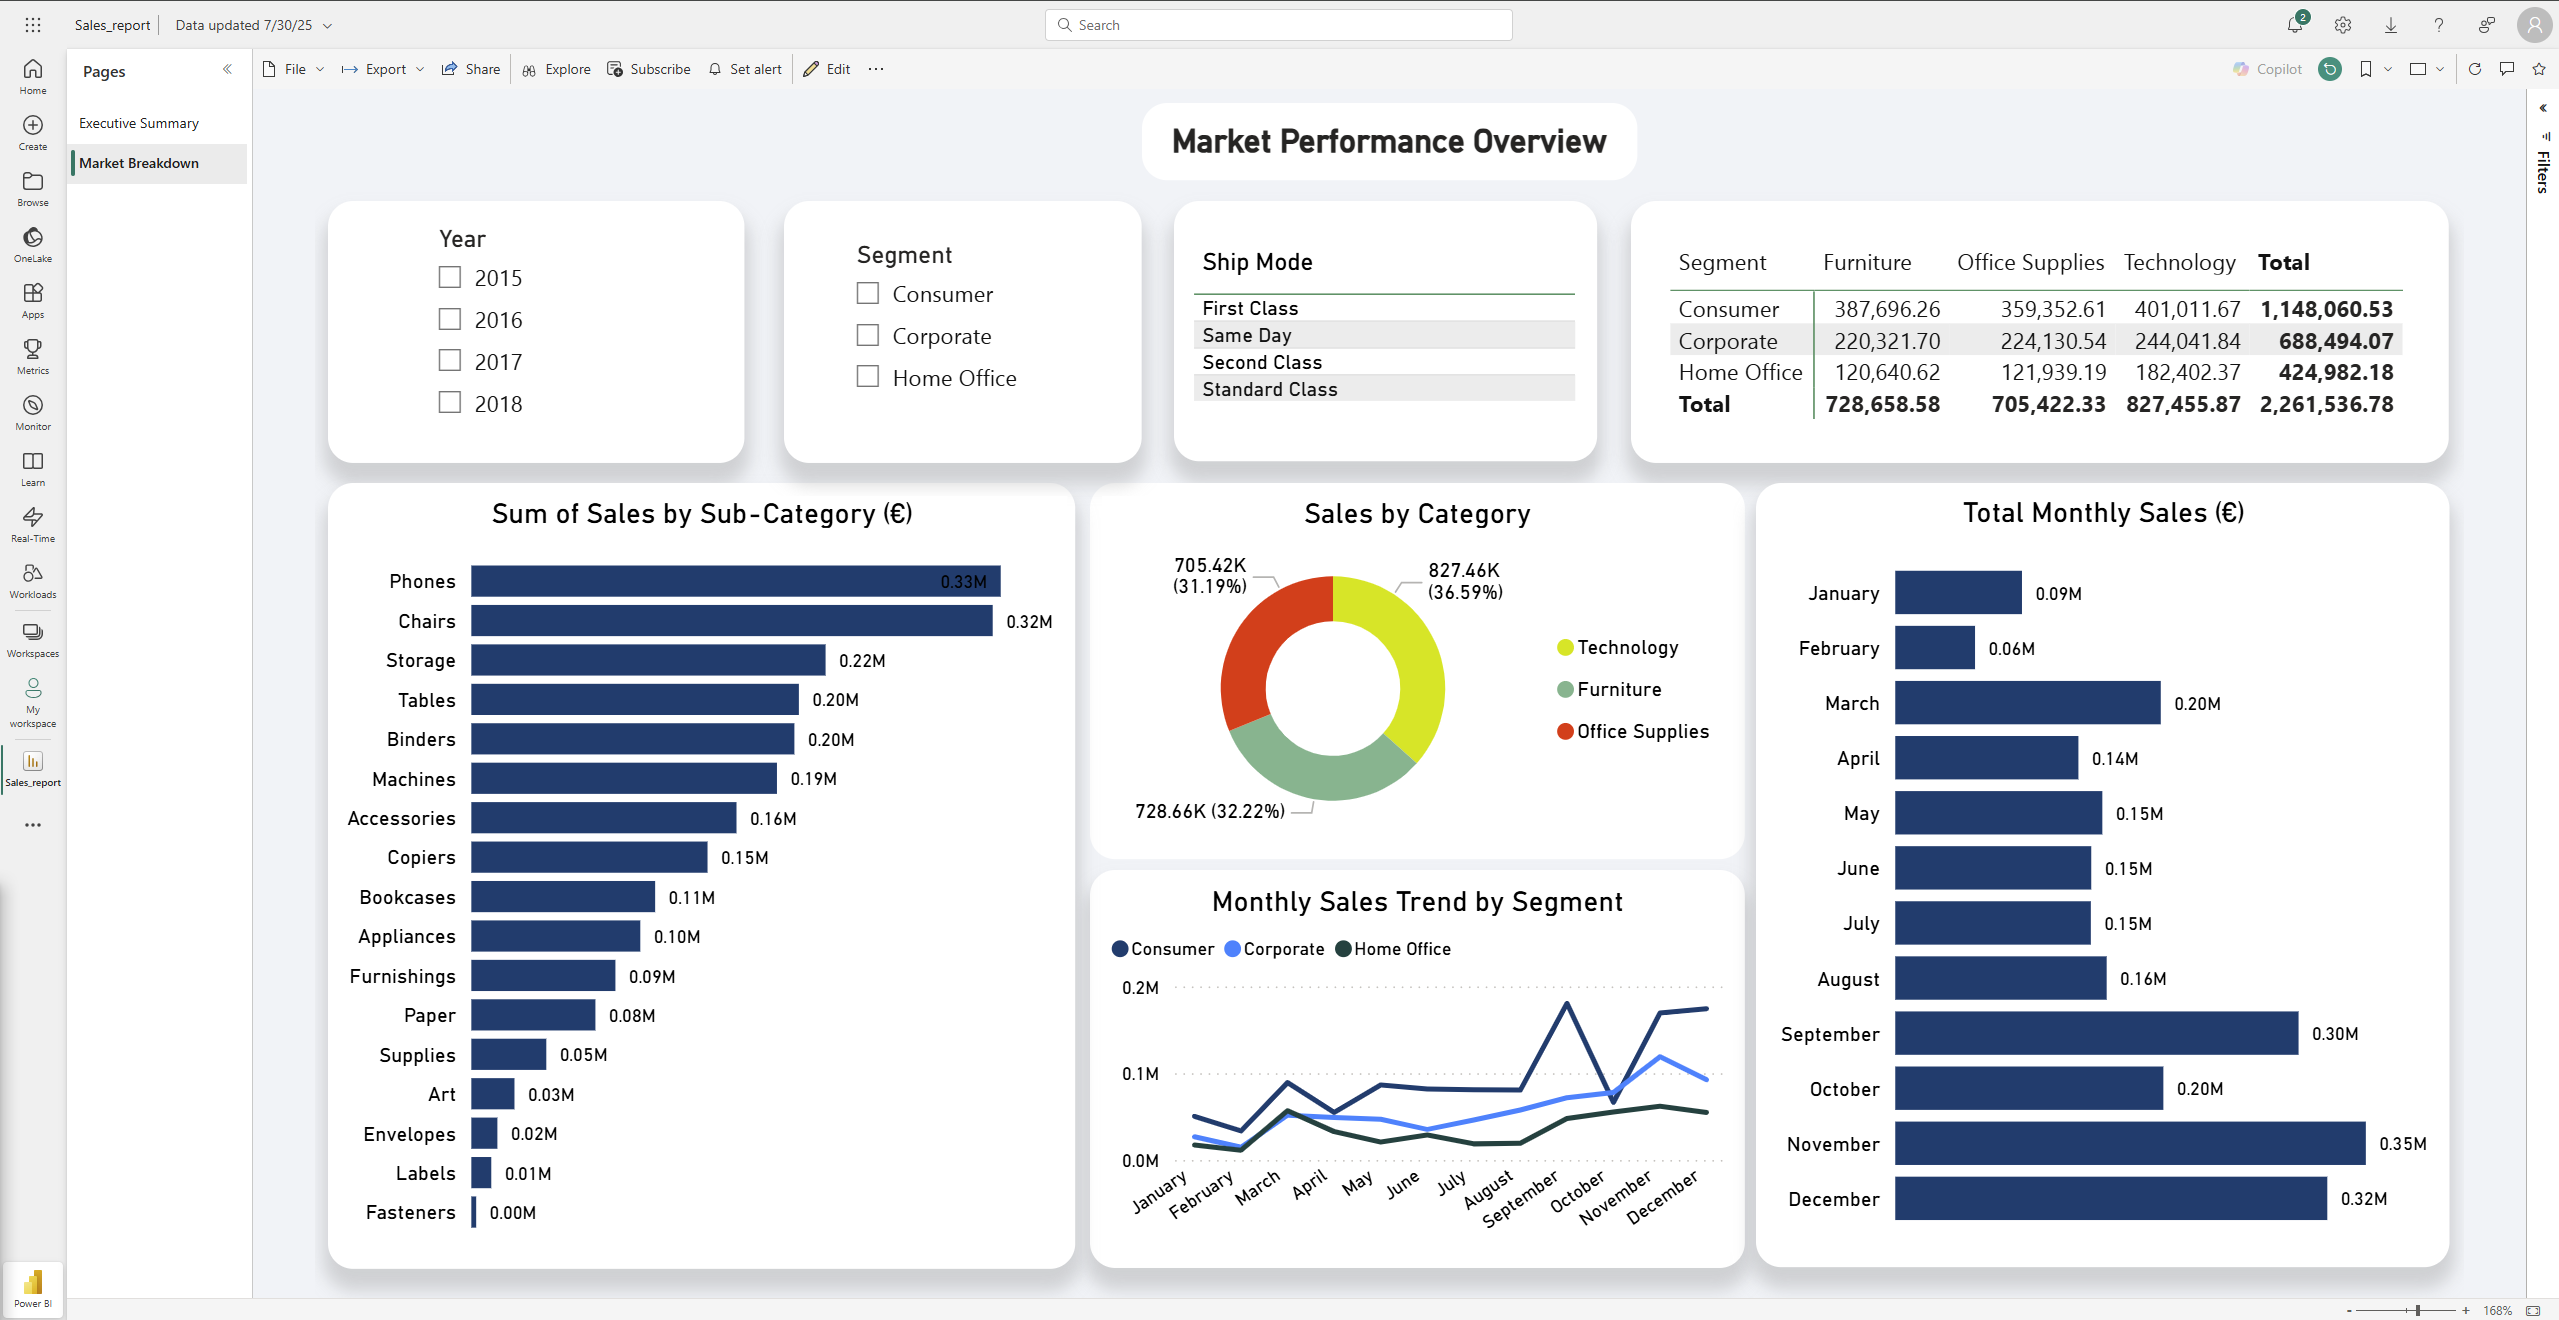

The page's visual inventory and layout, read from the dashboard file:
{"tool":"powerbi","page":{"name":"Market Breakdown","canvas":[1280,720],"ordinal":1},"visuals":[{"type":"shape","box":[7.7,66.5,248.4,156.1],"z":0},{"type":"shape","box":[461.3,465.2,390.3,236.8],"z":1000},{"type":"shape","box":[511.6,66.5,251.6,154.8],"z":2000},{"type":"shape","box":[783.9,66.5,487.1,156.1],"z":3000},{"type":"shape","box":[461.3,234.8,390.3,223.9],"z":4000},{"type":"shape","box":[7.7,234.8,445.2,467.7],"z":5000},{"type":"shape","box":[858.1,234.8,412.9,467.1],"z":6000},{"type":"barChart","title":"Total Monthly Sales (€)","fields":{"Category":["Superstore_BI_Notebook.Order Date.Variation.Date Hierarchy.Month"],"Y":["Sum(Superstore_BI_Notebook.Sales)"]},"box":[867.1,241.9,396.1,450.3],"z":7000},{"type":"shape","box":[279.4,66.5,212.9,156.1],"z":8000},{"type":"slicer","fields":{"Values":["Superstore_BI_Notebook.Segment"]},"box":[309.7,85.8,152.3,116.1],"z":9000},{"type":"textbox","box":[492.3,8.4,294.8,45.8],"z":10000},{"type":"donutChart","fields":{"Y":["Sum(Superstore_BI_Notebook.Sales)"],"Category":["Superstore_BI_Notebook.Category"]},"box":[468.4,242.6,376.1,210.3],"z":11000},{"type":"barChart","title":"Sum of Sales by Sub-Category (€)","fields":{"Category":["Superstore_BI_Notebook.Sub-Category"],"Y":["Sum(Superstore_BI_Notebook.Sales)"]},"box":[12.9,242.6,434.8,450.3],"z":12000},{"type":"pivotTable","fields":{"Rows":["Superstore_BI_Notebook.Segment"],"Columns":["Superstore_BI_Notebook.Category"],"Values":["Sum(Superstore_BI_Notebook.Sales)"]},"box":[802.4,87.8,449.6,115.8],"z":13000},{"type":"tableEx","fields":{"Values":["Superstore_BI_Notebook.Ship Mode"]},"box":[517.8,88.9,240,112.6],"z":14000},{"type":"lineChart","title":"Monthly Sales Trend by Segment","fields":{"Category":["Superstore_BI_Notebook.Order Date.Variation.Date Hierarchy.Month"],"Y":["Sum(Superstore_BI_Notebook.Sales)"],"Series":["Superstore_BI_Notebook.Segment"]},"box":[468.4,473.5,376.1,219.4],"z":15000},{"type":"slicer","fields":{"Values":["Superstore_BI_Notebook.Order Date.Variation.Date Hierarchy.Year"]},"box":[60.6,76.1,152.9,134.8],"z":16000}]}

Visuals, with their boxes on the page's 1280x720 design canvas (x1, y1, x2, y2). These are canvas units, not pixel positions in the 2559x1320 screenshot, which may show the page scaled, cropped or inside an application window:
shape: rect(8, 66, 256, 223)
shape: rect(461, 465, 852, 702)
shape: rect(512, 66, 763, 221)
shape: rect(784, 66, 1271, 223)
shape: rect(461, 235, 852, 459)
shape: rect(8, 235, 453, 702)
shape: rect(858, 235, 1271, 702)
"Total Monthly Sales (€)" barChart: rect(867, 242, 1263, 692)
shape: rect(279, 66, 492, 223)
slicer - Superstore_BI_Notebook.Segment: rect(310, 86, 462, 202)
textbox: rect(492, 8, 787, 54)
donutChart - Sum(Superstore_BI_Notebook.Sales) x Superstore_BI_Notebook.Category: rect(468, 243, 844, 453)
"Sum of Sales by Sub-Category (€)" barChart: rect(13, 243, 448, 693)
pivotTable - Superstore_BI_Notebook.Segment x Superstore_BI_Notebook.Category: rect(802, 88, 1252, 204)
tableEx - Superstore_BI_Notebook.Ship Mode: rect(518, 89, 758, 202)
"Monthly Sales Trend by Segment" lineChart: rect(468, 474, 844, 693)
slicer - Superstore_BI_Notebook.Order Date.Variation.Date Hierarchy.Year: rect(61, 76, 214, 211)
